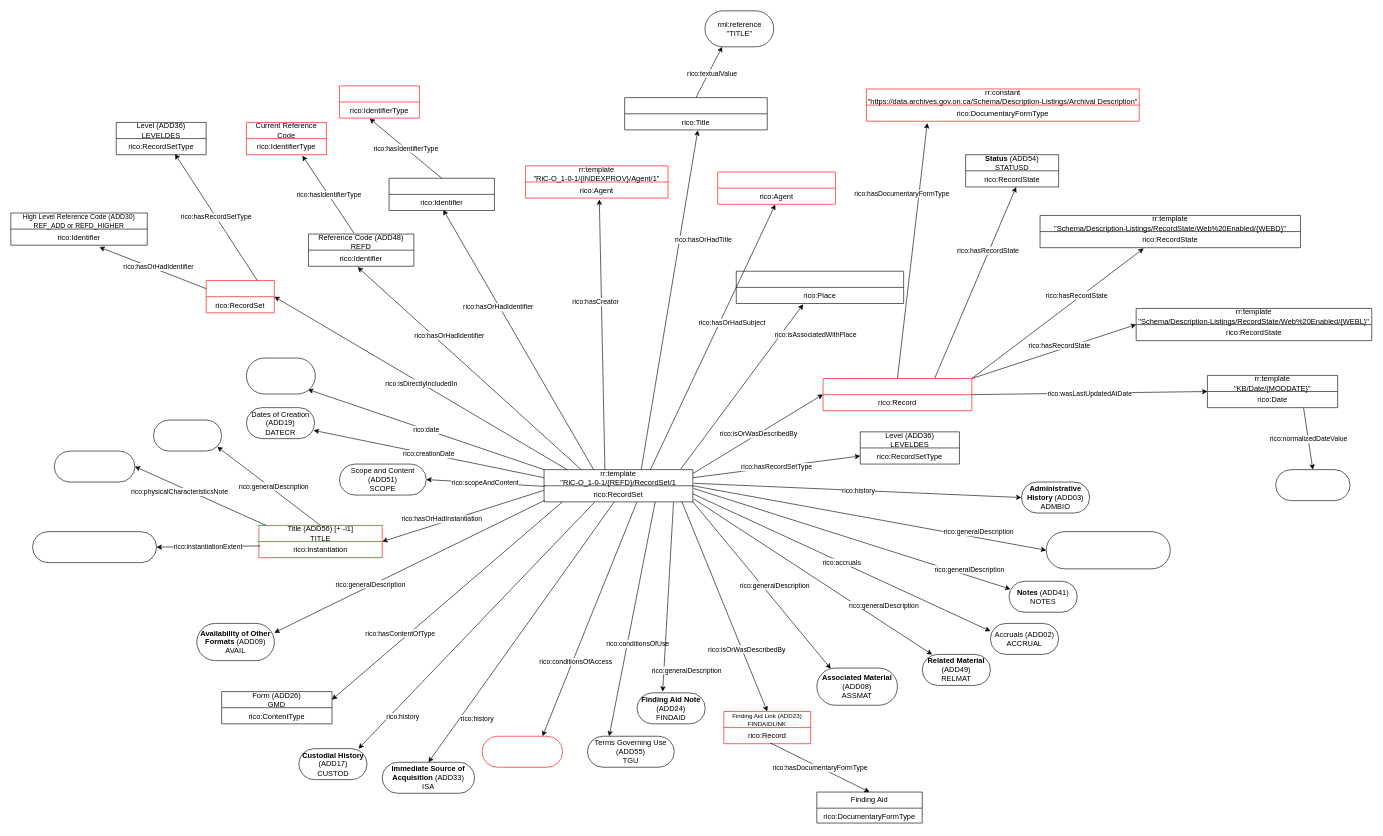
The diagram is 1383 pixels wide and 836 high, and some of its shapes have lost their labels. The shapes that lost their labels are listed below. From the top down, each one's box as (x1, y1, x2, y2) in pixels, then its label:
(339, 85, 419, 118): Former Code
(624, 97, 767, 130): rr:template " RiC-O_1-0-1/{ REFD }/Title/1"
(388, 178, 494, 210): Former Codes (ADD27) FCODES
(717, 171, 835, 204): Names as Subjects (ADD40) INDEXSUB
(206, 280, 274, 313): Title (ADD56) TITLE
(736, 271, 904, 303): rr:template " RiC-O_1-0-1 /Authority/{ INDEXGEO} "
(246, 357, 315, 394): Dates of Accumulation (ADD18) DATEACM
(822, 378, 972, 411): rr:template " RiC-O_1-0-1/{ REFD}/Record/1"
(153, 419, 222, 451): How to Order (ADD31) HOWTO
(54, 450, 135, 482): Physical Condition (ADD45) PHYSCO
(1275, 469, 1350, 501): rml:reference " MODDATE "
(32, 531, 157, 563): Physical Description (ADD46) PHDESC
(1046, 531, 1170, 569): Archivist's Comments (ADD06) or Hidden Notes (ADD29) CMTD or HIDDENNOTES
(481, 736, 563, 767): Access Restrictions (ADD01) RESTRTX / REST
